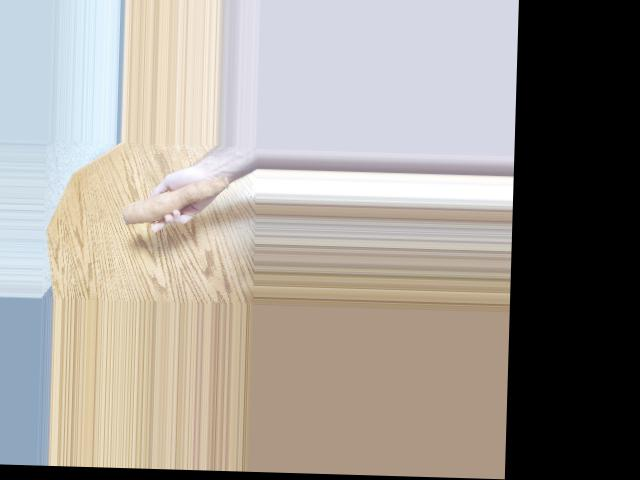sweet_potato: (121, 171, 232, 229)
